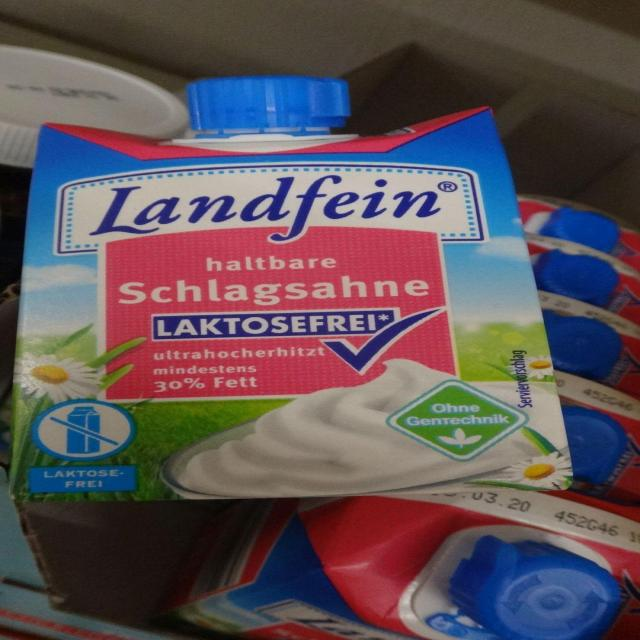Cream: (14, 76, 571, 500), (174, 491, 639, 640)
